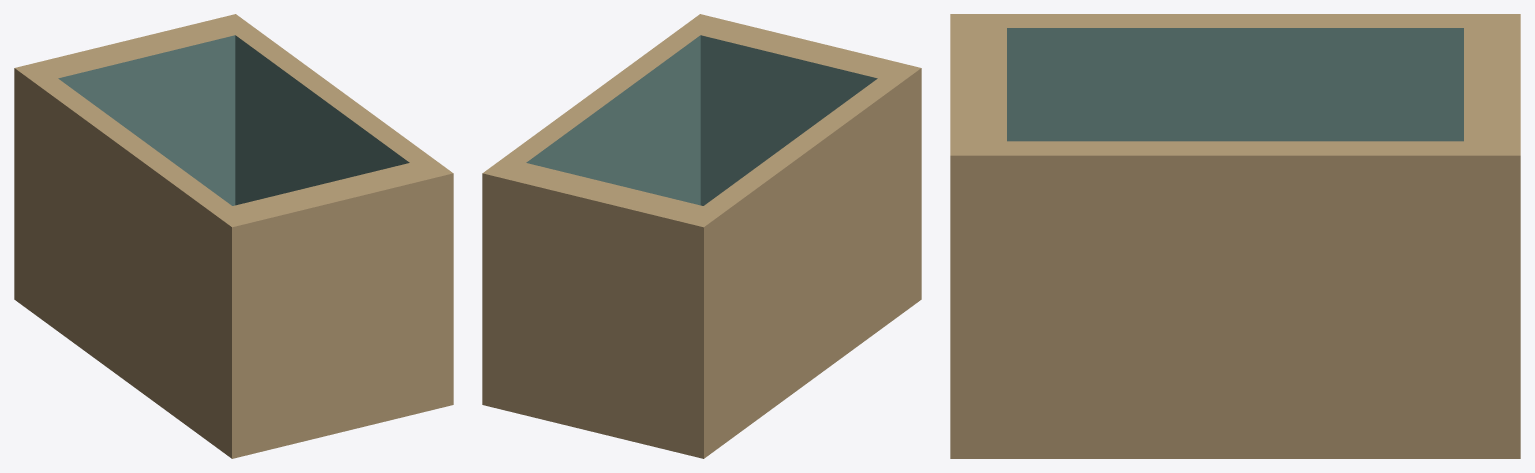
The model's file is BalconDoble.fbx.
3 views of the same model, side by side, from view 1: azimuth 30°, elevation 25°; view 2: azimuth 150°, elevation 25°; view 3: azimuth 270°, elevation 25° (orthographic). The views are drawn at different scales.
Visible parts, largest first — view 1: Cube.011; view 2: Cube.011; view 3: Cube.011.
Boxes of the visible parts, bbox=[...] form: Cube.011: bbox=[14, 14, 453, 458]; Cube.011: bbox=[482, 14, 921, 458]; Cube.011: bbox=[950, 14, 1520, 458].
Size of the model in its own units: 40 by 40 by 68.13.
